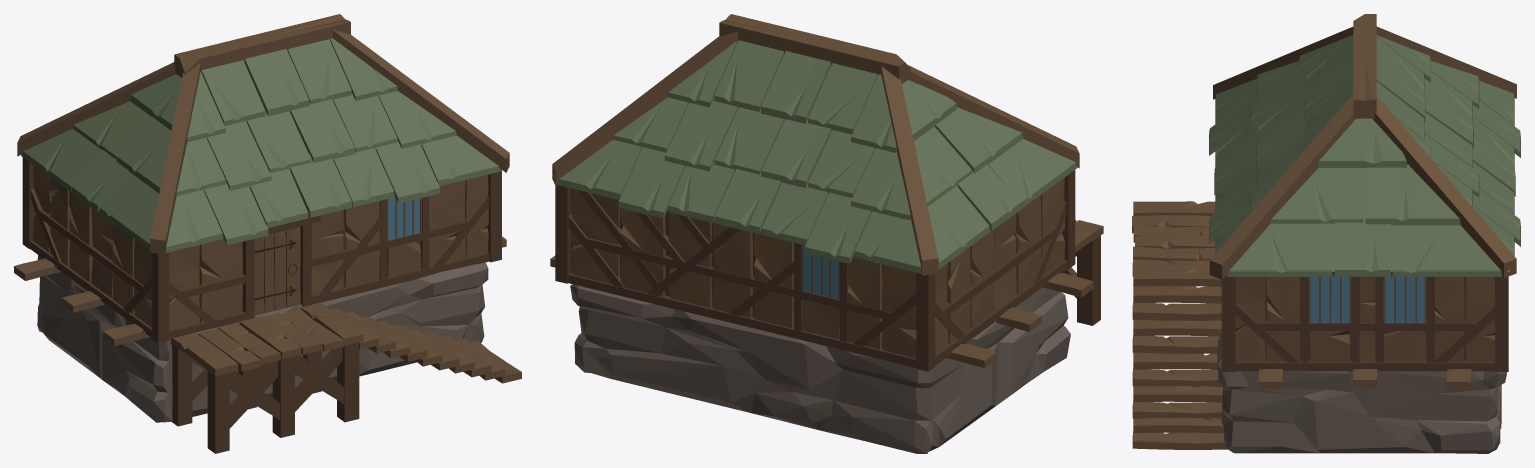
File: house_draco.glb
3 views of the same model, side by side, from view 1: azimuth 30°, elevation 25°; view 2: azimuth 150°, elevation 25°; view 3: azimuth 270°, elevation 25° (orthographic). The views are drawn at different scales.
Parts seen in each view (by area): view 1: house; view 2: house; view 3: house.
Boxes of the visible parts, bbox=[...] form: house: bbox=[14, 14, 521, 453]; house: bbox=[550, 14, 1103, 453]; house: bbox=[1132, 14, 1520, 453].
Size of the model in its own units: 5.76 by 4.15 by 4.62.
